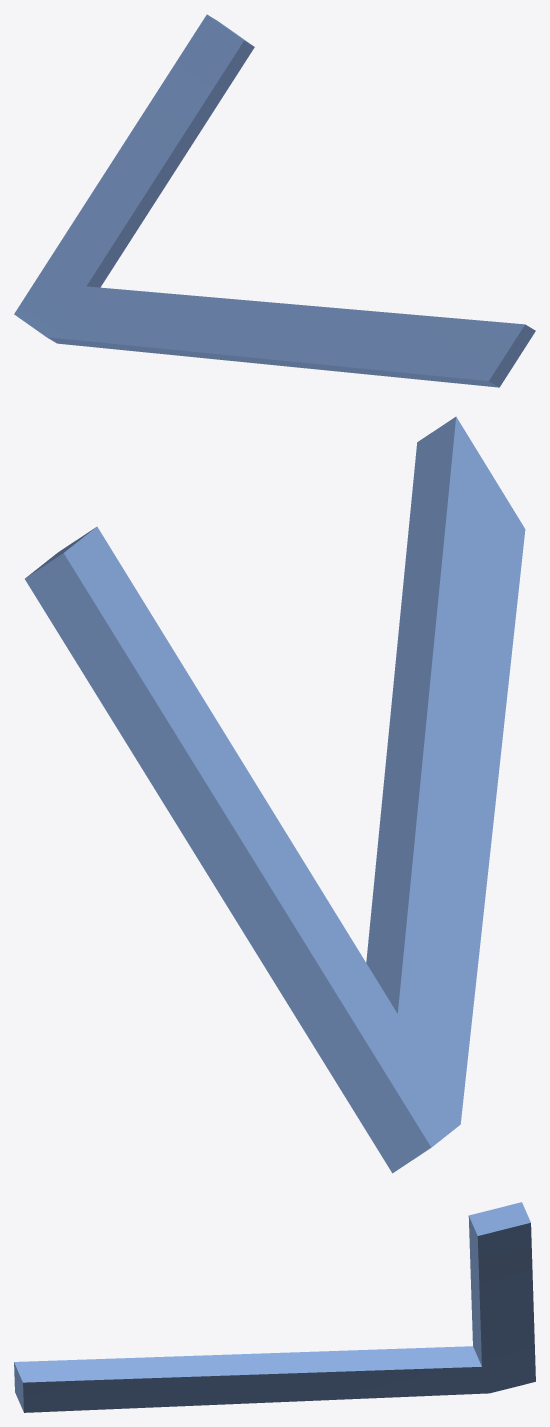
File: New_Number_7.gltf
3 renders of one model, top to bottom at view 1: azimuth 30°, elevation 25°; view 2: azimuth 150°, elevation 25°; view 3: azimuth 270°, elevation 25°, orthographic. The views are drawn at different scales.
Visible parts, largest first — view 1: Part 601; view 2: Part 601; view 3: Part 601.
Part boxes in pixels (<box>): Part 601: <box>14,14,535,387</box>; Part 601: <box>25,416,525,1173</box>; Part 601: <box>14,1202,535,1412</box>.
Bounding box in the file's own units: 0.00313 × 0.00313 × 0.00546.
